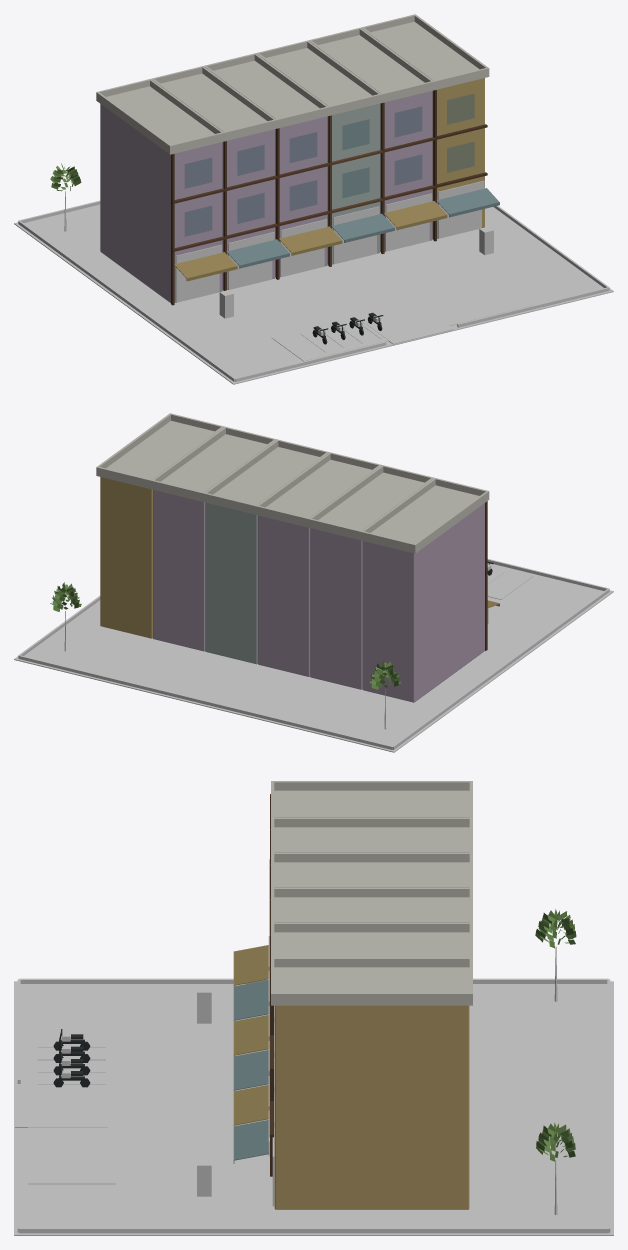
Rendered from com.block_0_3@central.gltf.
The picture shows the model from 3 angles, top to bottom: view 1: azimuth 30°, elevation 25°; view 2: azimuth 150°, elevation 25°; view 3: azimuth 270°, elevation 25°; orthographic projection. The views are drawn at different scales.
Visible parts, largest first — view 1: com.block_0_3/vertex-finish-plaster_tint:ffffff, com.block_0_3/road-concrete:a6aba6, com.block_0_3/concrete_weathered#bdbbb2, com.block_0_3/glass_tinted, com.block_0_3/vertex-finish-fabric_canvas:ffffff, com.block_0_3/vertex-finish-roller_shutter:ffffff, com.block_0_3/sign_thai:atlas:[{"text":"ข้าวแกงบ้านอุ่น","si, com.block_0_3/foliage_tropical#668949; view 2: com.block_0_3/vertex-finish-plaster_tint:ffffff, com.block_0_3/road-concrete:a6aba6, com.block_0_3/concrete_weathered#bdbbb2, com.block_0_3/foliage_tropical#668949; view 3: com.block_0_3/road-concrete:a6aba6, com.block_0_3/concrete_weathered#bdbbb2, com.block_0_3/vertex-finish-plaster_tint:ffffff, com.block_0_3/vertex-finish-fabric_canvas:ffffff, com.block_0_3/foliage_tropical#668949, com.block_0_3/vertex-finish-roller_shutter:ffffff.
Part boxes in pixels (x1=…): com.block_0_3/vertex-finish-plaster_tint:ffffff: x1=64, y1=78, x2=487, y2=305; com.block_0_3/road-concrete:a6aba6: x1=14, y1=200, x2=613, y2=384; com.block_0_3/concrete_weathered#bdbbb2: x1=96, y1=14, x2=489, y2=154; com.block_0_3/glass_tinted: x1=184, y1=94, x2=474, y2=236; com.block_0_3/vertex-finish-fabric_canvas:ffffff: x1=174, y1=188, x2=499, y2=281; com.block_0_3/vertex-finish-roller_shutter:ffffff: x1=175, y1=203, x2=481, y2=344; com.block_0_3/sign_thai:atlas:[{"text":"ข้าวแกงบ้านอุ่น","si: x1=176, y1=180, x2=484, y2=263; com.block_0_3/foliage_tropical#668949: x1=50, y1=163, x2=81, y2=191; com.block_0_3/vertex-finish-plaster_tint:ffffff: x1=64, y1=477, x2=487, y2=729; com.block_0_3/road-concrete:a6aba6: x1=14, y1=559, x2=613, y2=752; com.block_0_3/concrete_weathered#bdbbb2: x1=96, y1=413, x2=489, y2=553; com.block_0_3/foliage_tropical#668949: x1=50, y1=582, x2=401, y2=689; com.block_0_3/road-concrete:a6aba6: x1=14, y1=978, x2=613, y2=1235; com.block_0_3/concrete_weathered#bdbbb2: x1=271, y1=781, x2=472, y2=1005; com.block_0_3/vertex-finish-plaster_tint:ffffff: x1=269, y1=794, x2=557, y2=1214; com.block_0_3/vertex-finish-fabric_canvas:ffffff: x1=233, y1=945, x2=268, y2=1163; com.block_0_3/foliage_tropical#668949: x1=535, y1=909, x2=576, y2=1161; com.block_0_3/vertex-finish-roller_shutter:ffffff: x1=53, y1=1006, x2=274, y2=1206.
Bounding box in the file's own units: 29 × 11.82 × 29.
